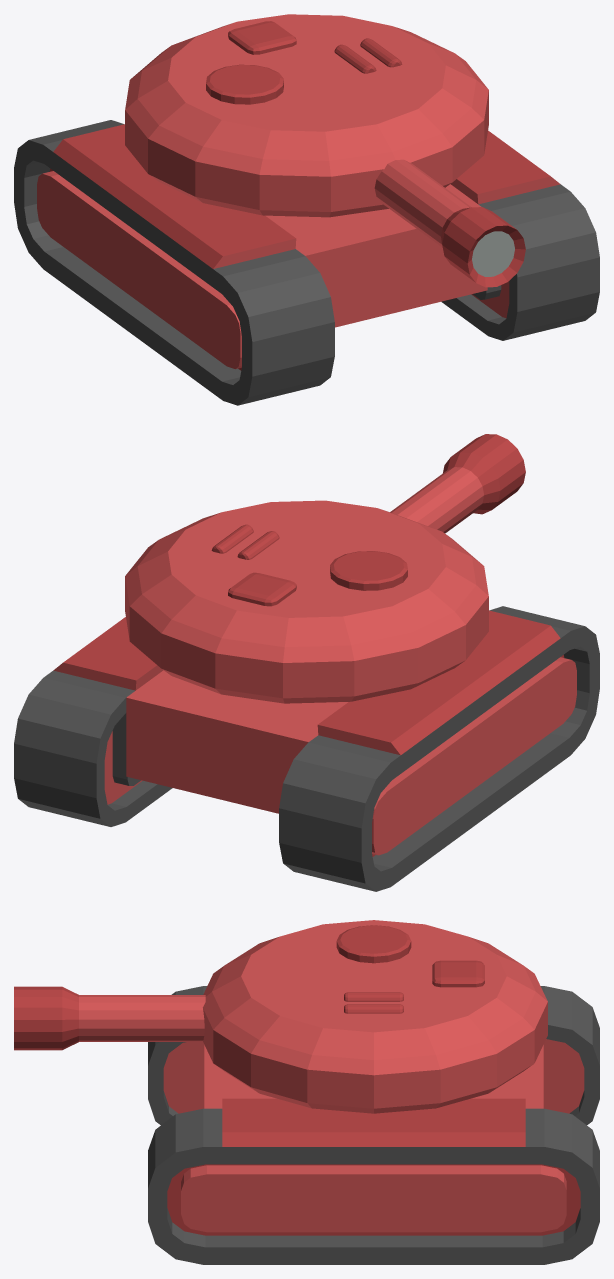
File: Tank1.enemy.fbx
3 renders of one model, top to bottom at view 1: azimuth 30°, elevation 25°; view 2: azimuth 150°, elevation 25°; view 3: azimuth 270°, elevation 25°, orthographic. The views are drawn at different scales.
Parts seen in each view (by area): view 1: Tank1.optimised.enemy, Tank1_Turret.002; view 2: Tank1.optimised.enemy, Tank1_Turret.002; view 3: Tank1.optimised.enemy, Tank1_Turret.002.
Boxes of the visible parts, x1,y1,x2,y2 form: Tank1.optimised.enemy: (14,120,599,405); Tank1_Turret.002: (125,14,525,287); Tank1.optimised.enemy: (14,606,599,891); Tank1_Turret.002: (125,434,525,703); Tank1.optimised.enemy: (148,986,599,1264); Tank1_Turret.002: (14,920,547,1113).
Bounding box in the file's own units: 3.81 × 2.39 × 5.86.
1 material, 1 textured.
